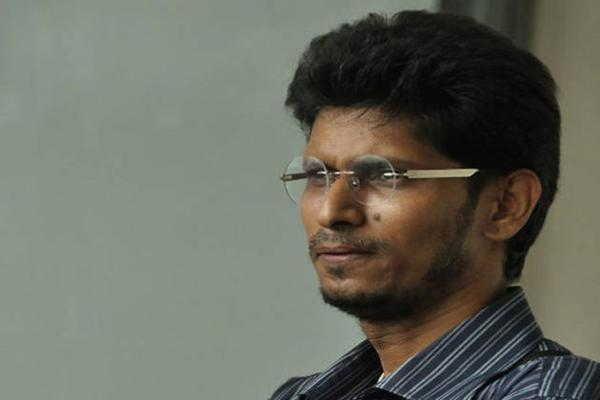Indian: (301, 114, 462, 312)
